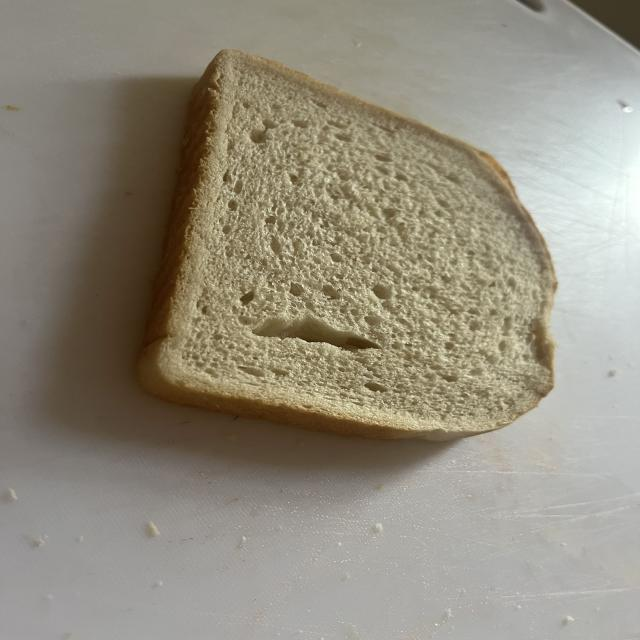sliced_bread: (138, 51, 554, 439)
